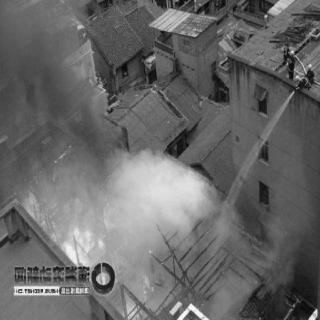Smoke: (34, 86, 92, 142)
